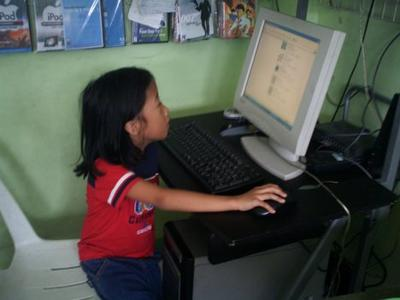person: (73, 67, 285, 300)
